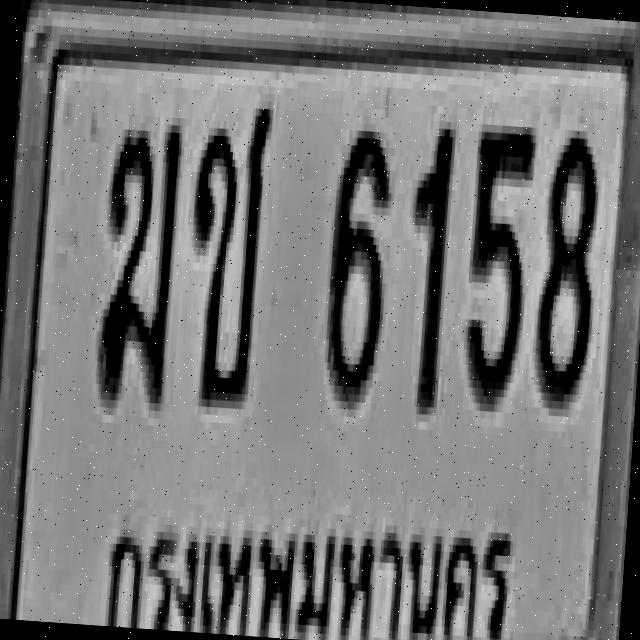1: (399, 124, 456, 412)
15KhorRaKhang: (93, 117, 184, 407)
19ChorChang: (178, 96, 274, 410)
5: (459, 120, 536, 409)
6: (320, 122, 394, 404)
8: (530, 128, 604, 410)
Bangkok: (95, 479, 526, 640)
